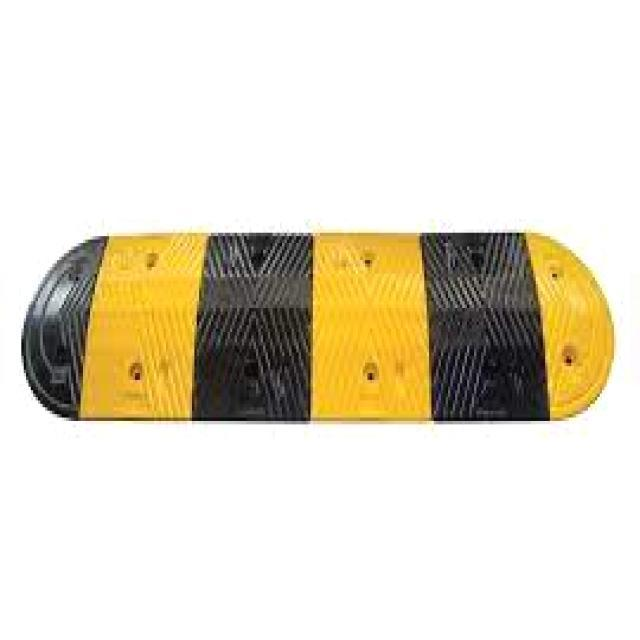speed-bump: (10, 187, 630, 455)
